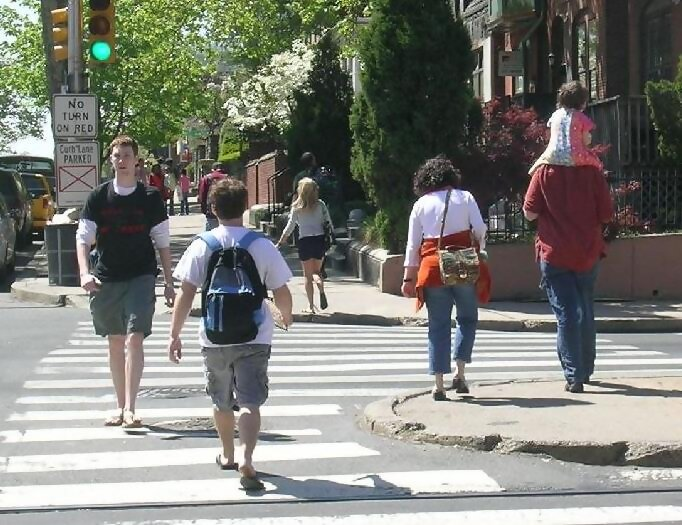person: (171, 173, 294, 491), (48, 135, 176, 440), (398, 151, 497, 398), (525, 165, 622, 403), (278, 170, 342, 312), (515, 85, 612, 165)
